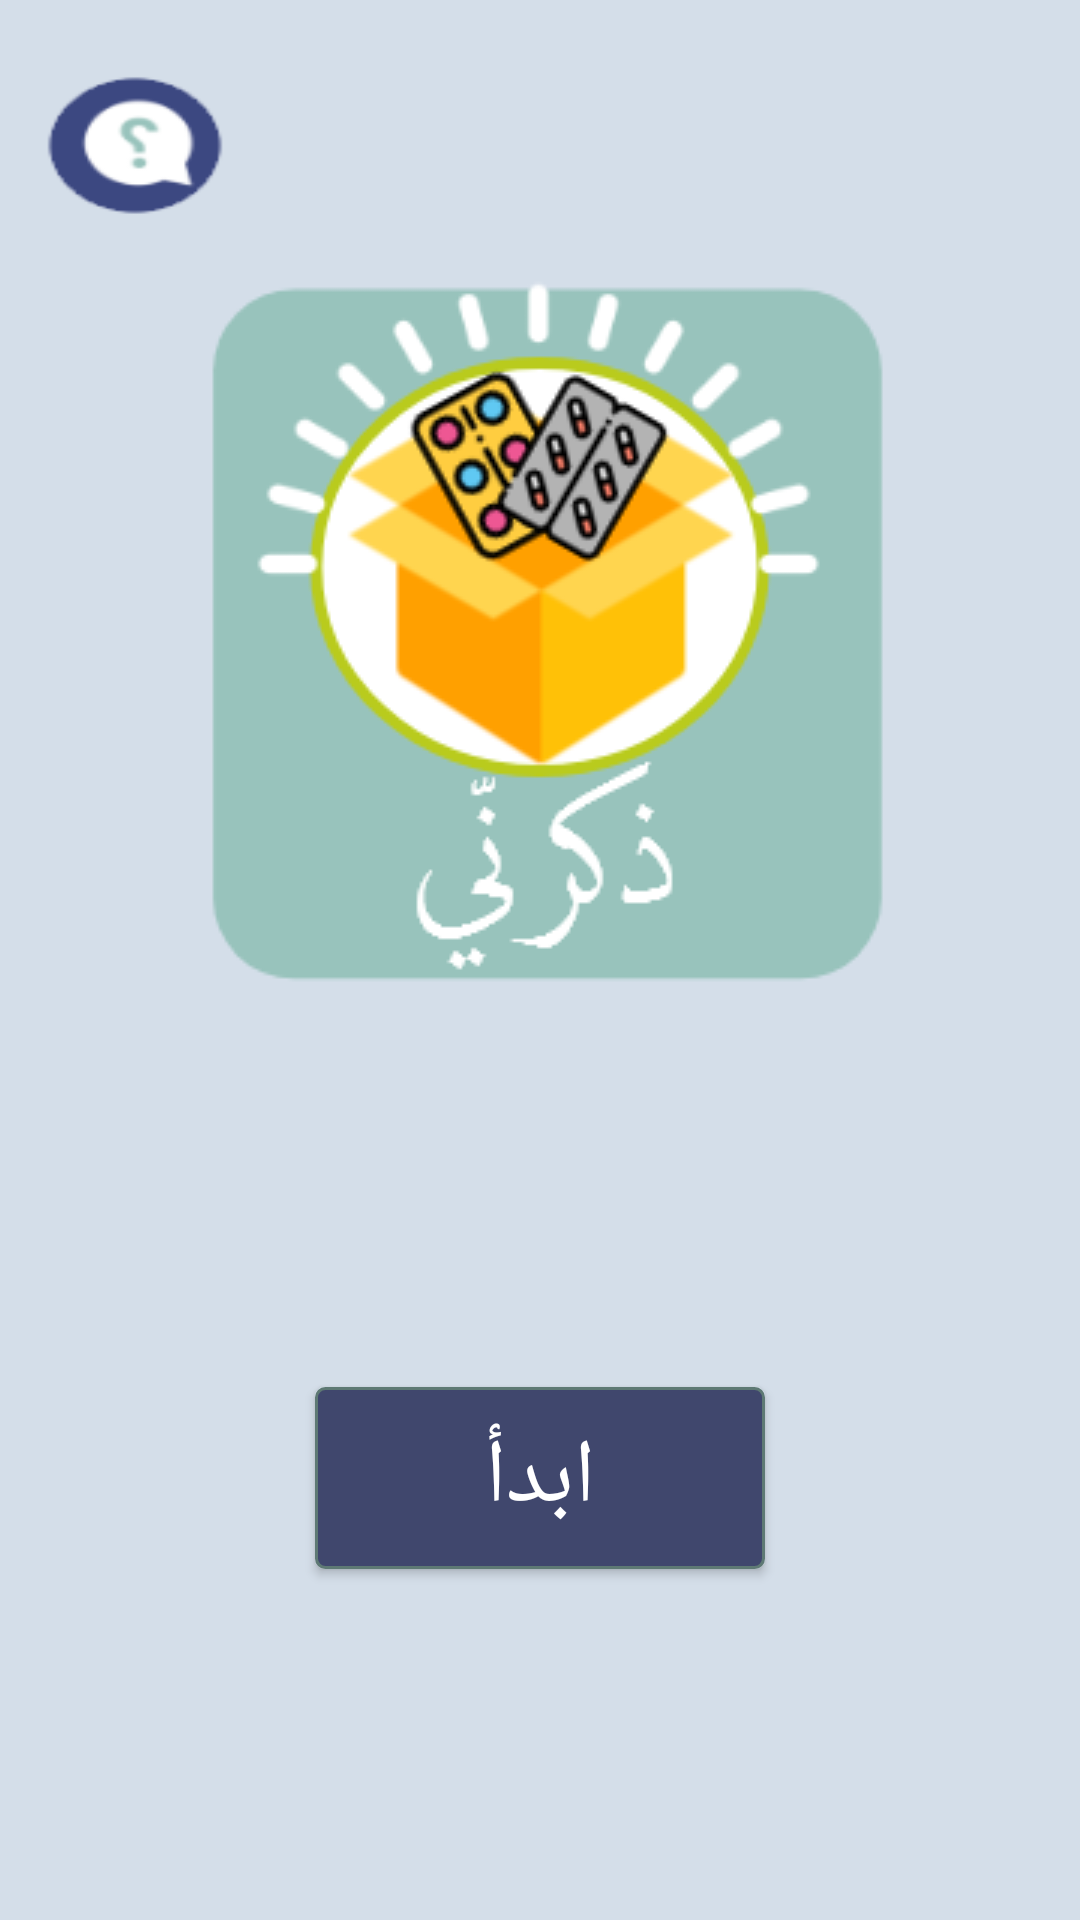

Locate icon controls on the screen. Image size 1080 × 1920, boxes as bbox(x1, y1, x2, y2).
questionmark: bbox(48, 77, 222, 214)
